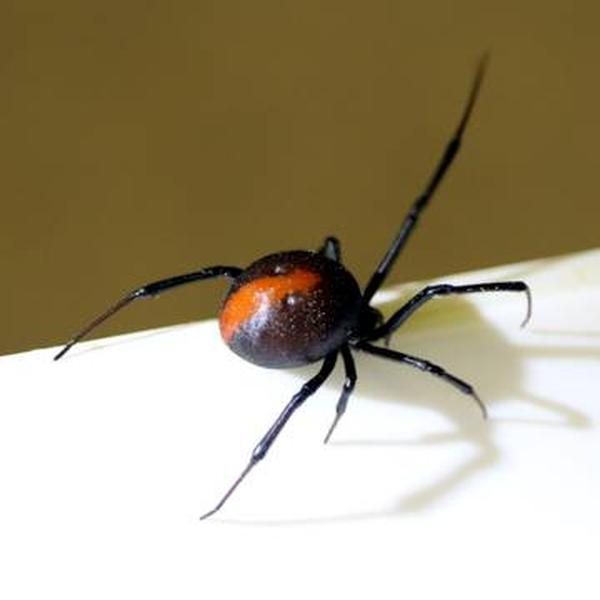Redback_Spider: (56, 51, 531, 508)
